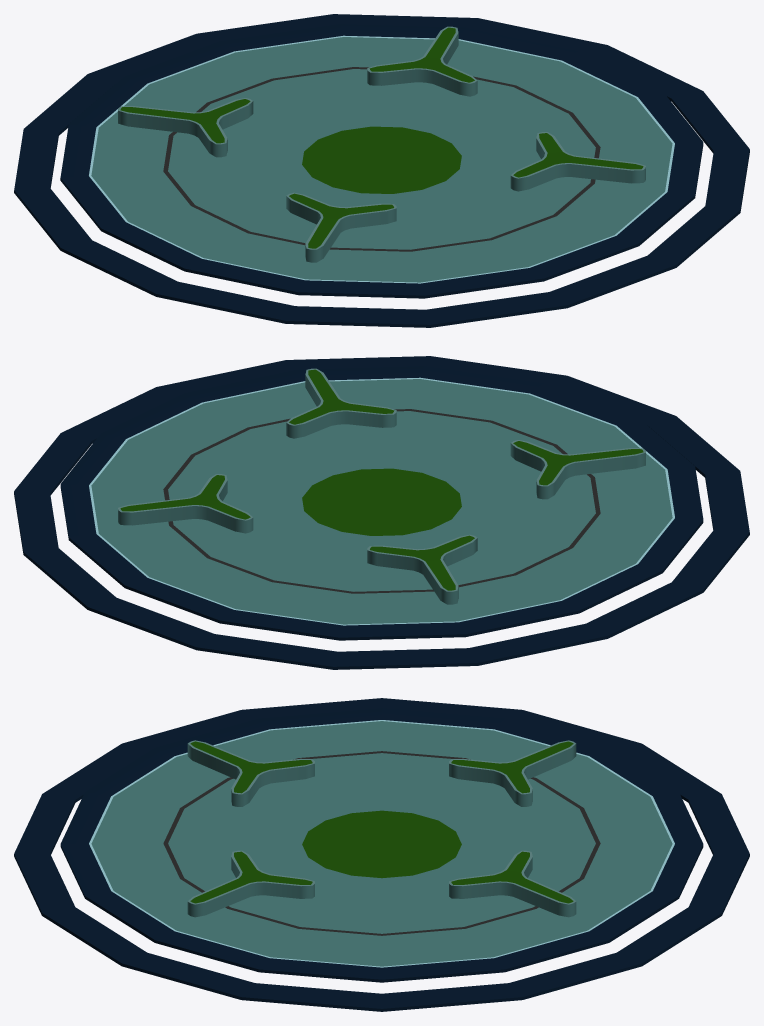
File: W_O_Forum_Flowerbed_002_L3.fbx
3 renders of one model, top to bottom at view 1: azimuth 30°, elevation 25°; view 2: azimuth 150°, elevation 25°; view 3: azimuth 270°, elevation 25°, orthographic.
Visible parts, largest first — view 1: W_O_Forum_Flowerbed_002_L3; view 2: W_O_Forum_Flowerbed_002_L3; view 3: W_O_Forum_Flowerbed_002_L3.
Part boxes in pixels (<box>): W_O_Forum_Flowerbed_002_L3: <box>14,14,749,327</box>; W_O_Forum_Flowerbed_002_L3: <box>14,356,749,669</box>; W_O_Forum_Flowerbed_002_L3: <box>14,698,749,1011</box>.
Size of the model in its own units: 13.8 by 13.8 by 0.7016.
